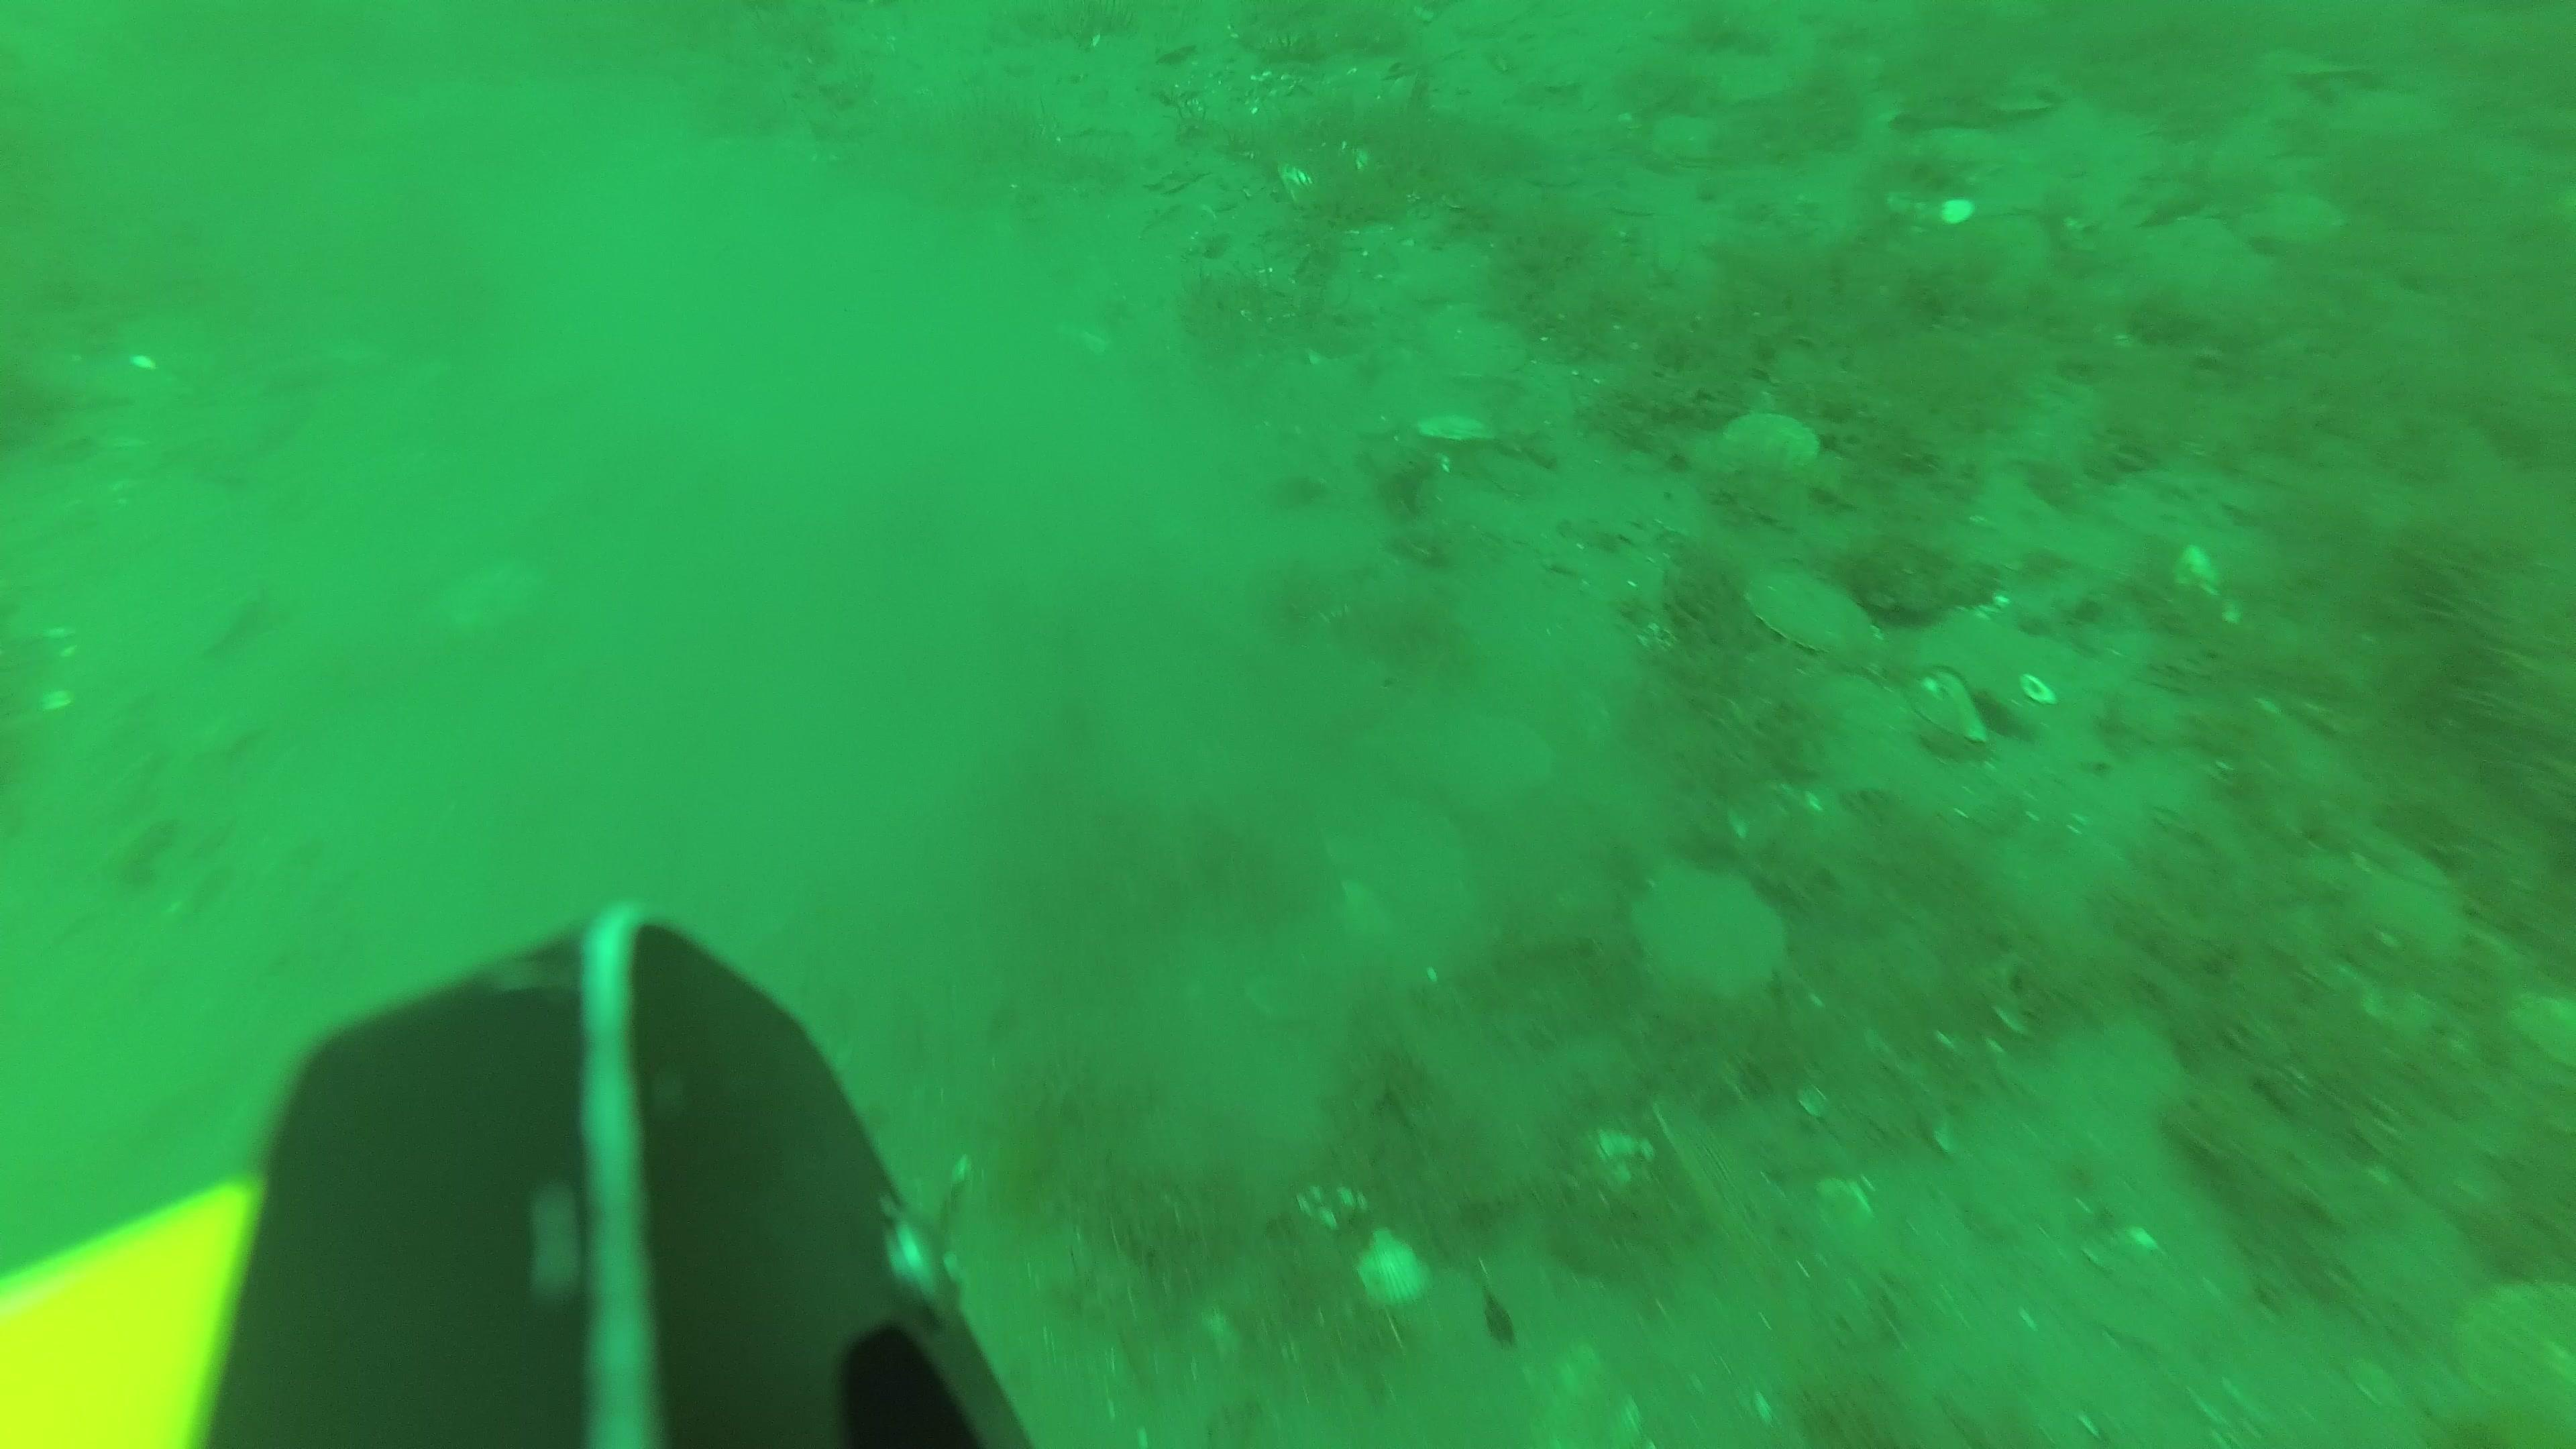scallop: (1629, 862, 1812, 1008), (2452, 1258, 2576, 1449), (1739, 563, 1893, 676), (1796, 671, 1918, 805), (1504, 1348, 1656, 1449), (1716, 405, 1824, 488), (1644, 101, 1743, 180), (2503, 977, 2576, 1085), (1911, 660, 1989, 750), (2212, 492, 2263, 533)
